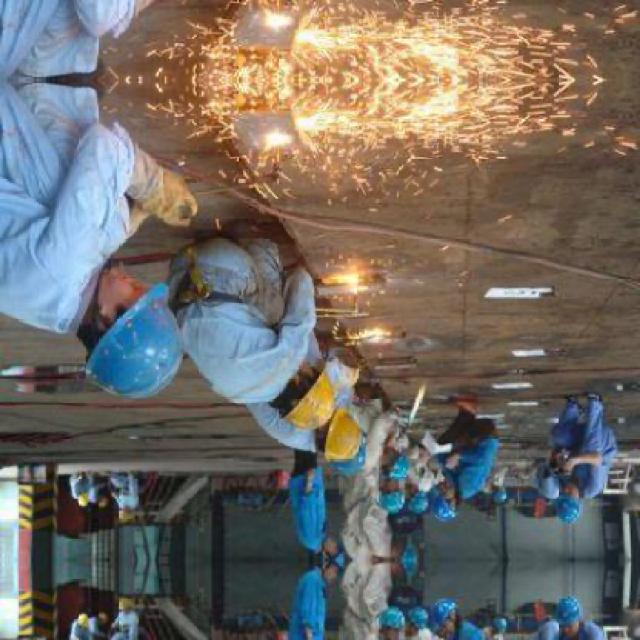con casco: (72, 276, 199, 412), (254, 360, 332, 424), (543, 476, 605, 536), (310, 413, 380, 462)
